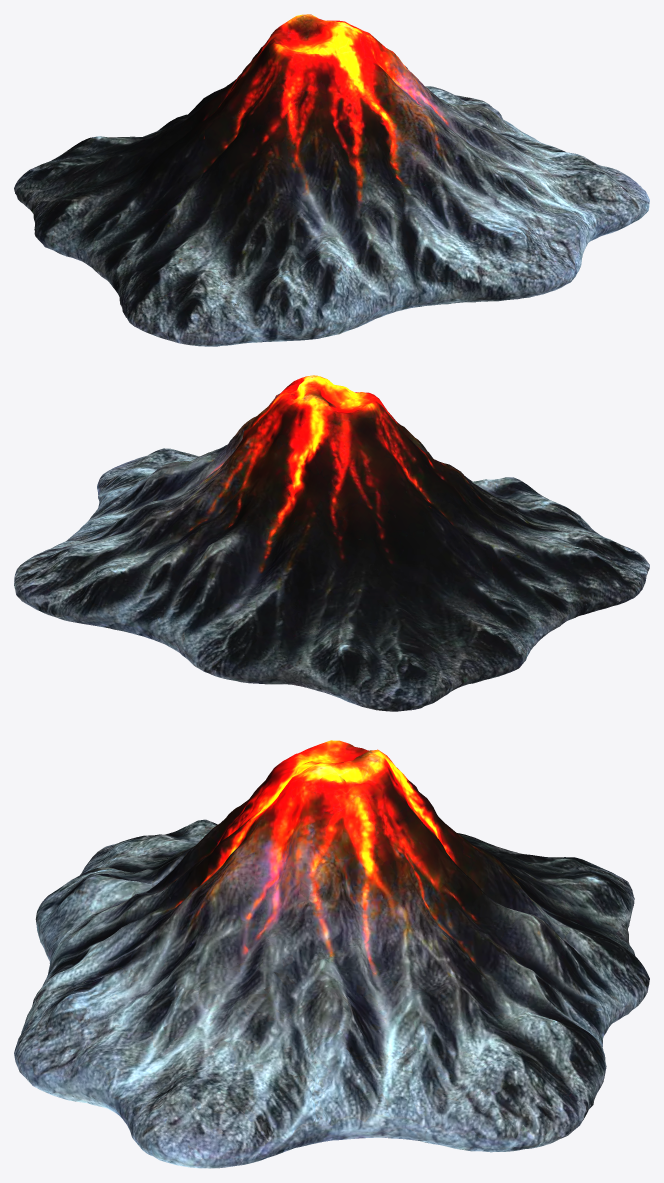
Rendered from volcano.v1.glb.
3 views of the same model, one above another, from view 1: azimuth 30°, elevation 25°; view 2: azimuth 150°, elevation 25°; view 3: azimuth 270°, elevation 25° (orthographic). The views are drawn at different scales.
Parts seen in each view (by area): view 1: mesh_obj; view 2: mesh_obj; view 3: mesh_obj.
Part boxes in pixels (bbox=[...]): mesh_obj: bbox=[14, 14, 649, 346]; mesh_obj: bbox=[14, 375, 649, 711]; mesh_obj: bbox=[14, 740, 649, 1168].
Size of the model in its own units: 0.7602 by 0.2921 by 0.6392.
1 material, 1 textured.
